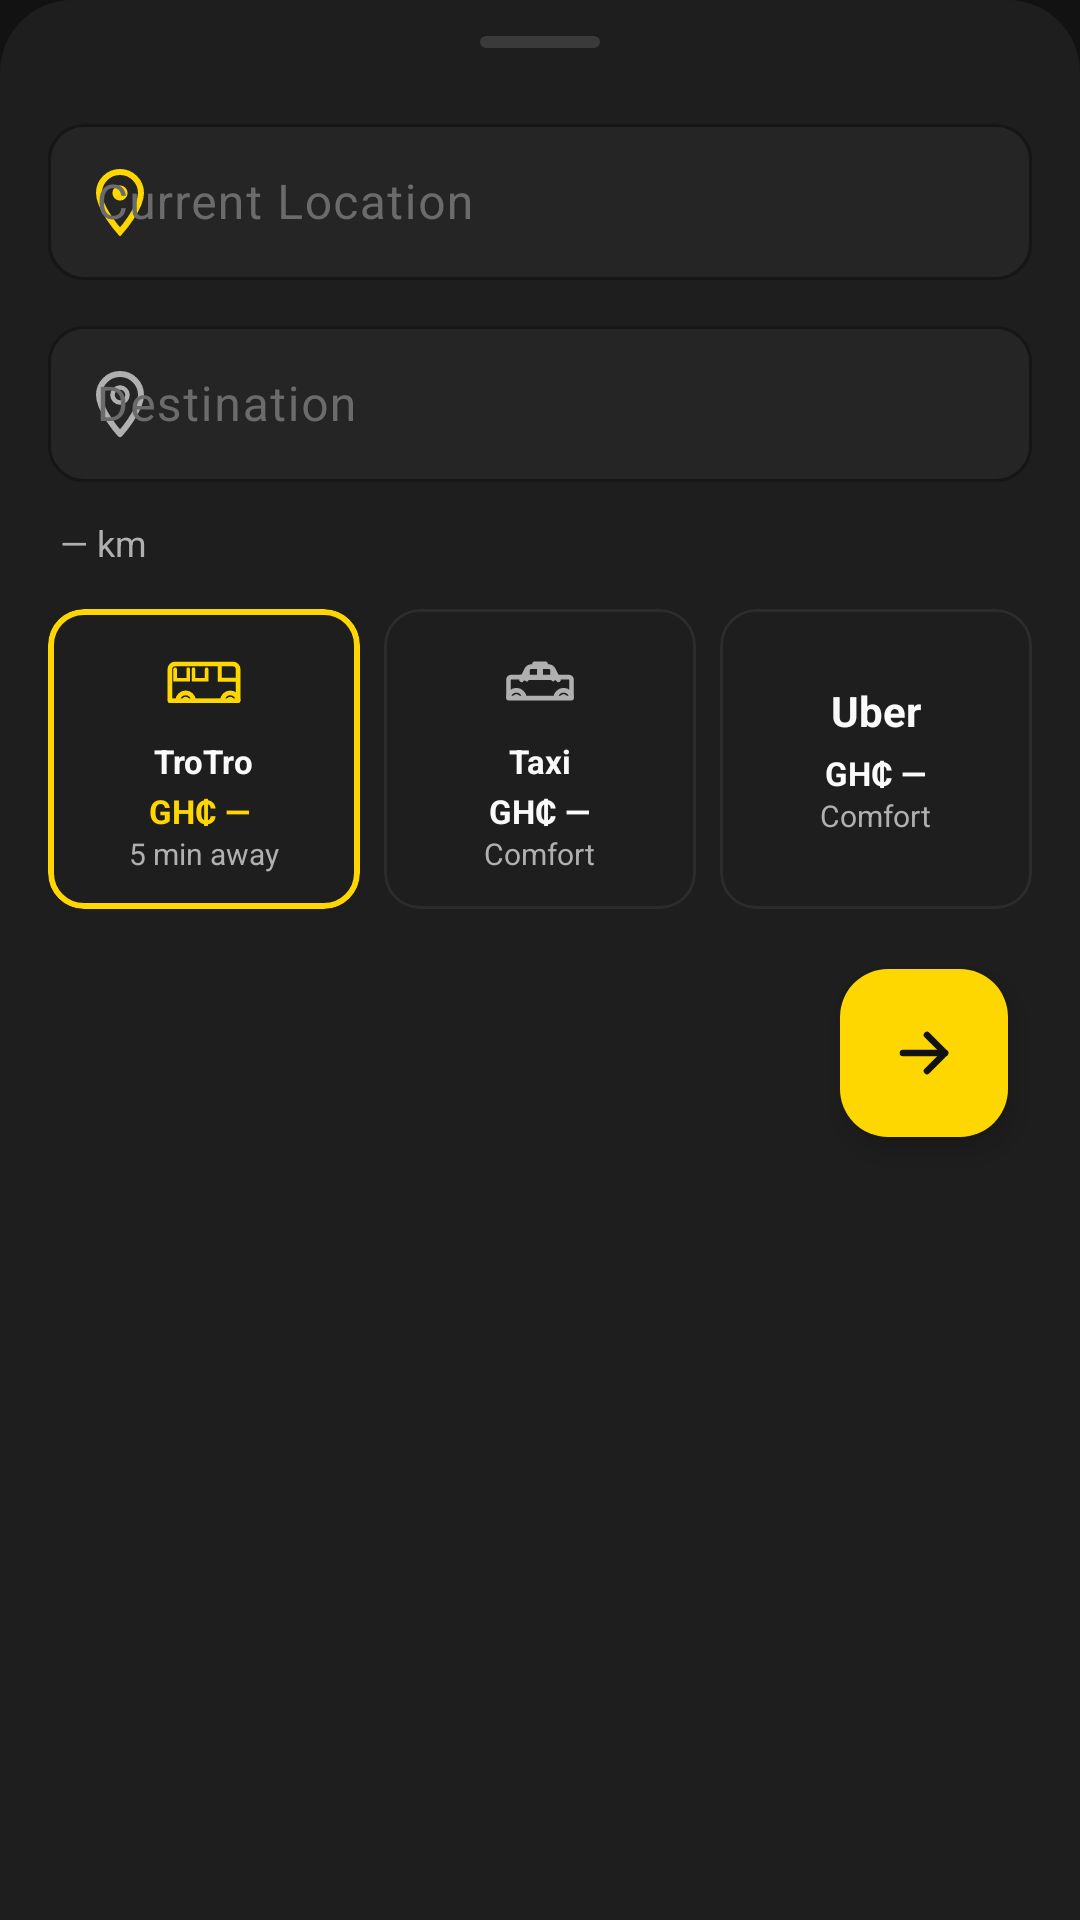

Icon click points for this 1080*1920 phone screenshot, format (x=x, y=y):
Confirm: (x=924, y=1053)
